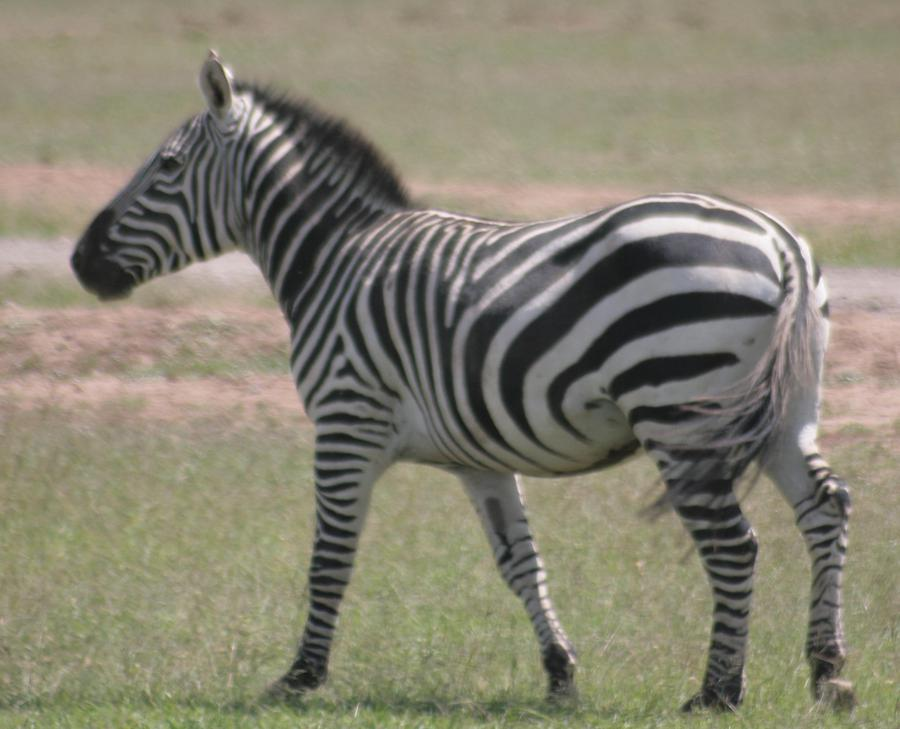zebra_plains: (294, 197, 753, 485)
